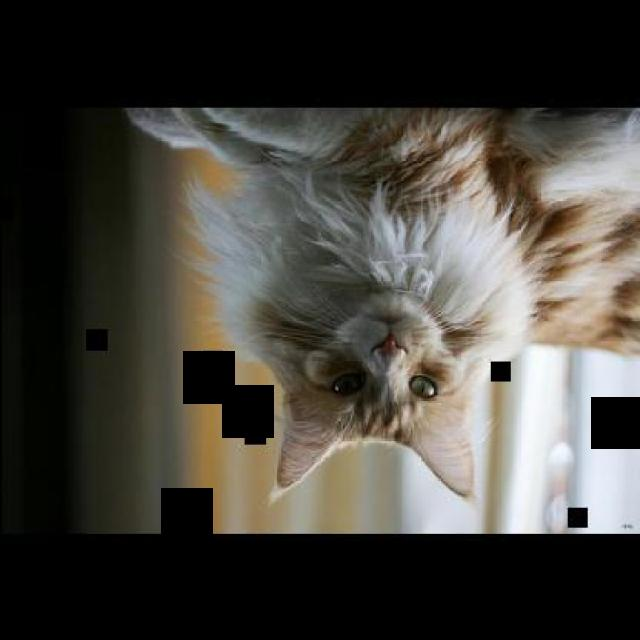unauthorized: (121, 105, 638, 506)
